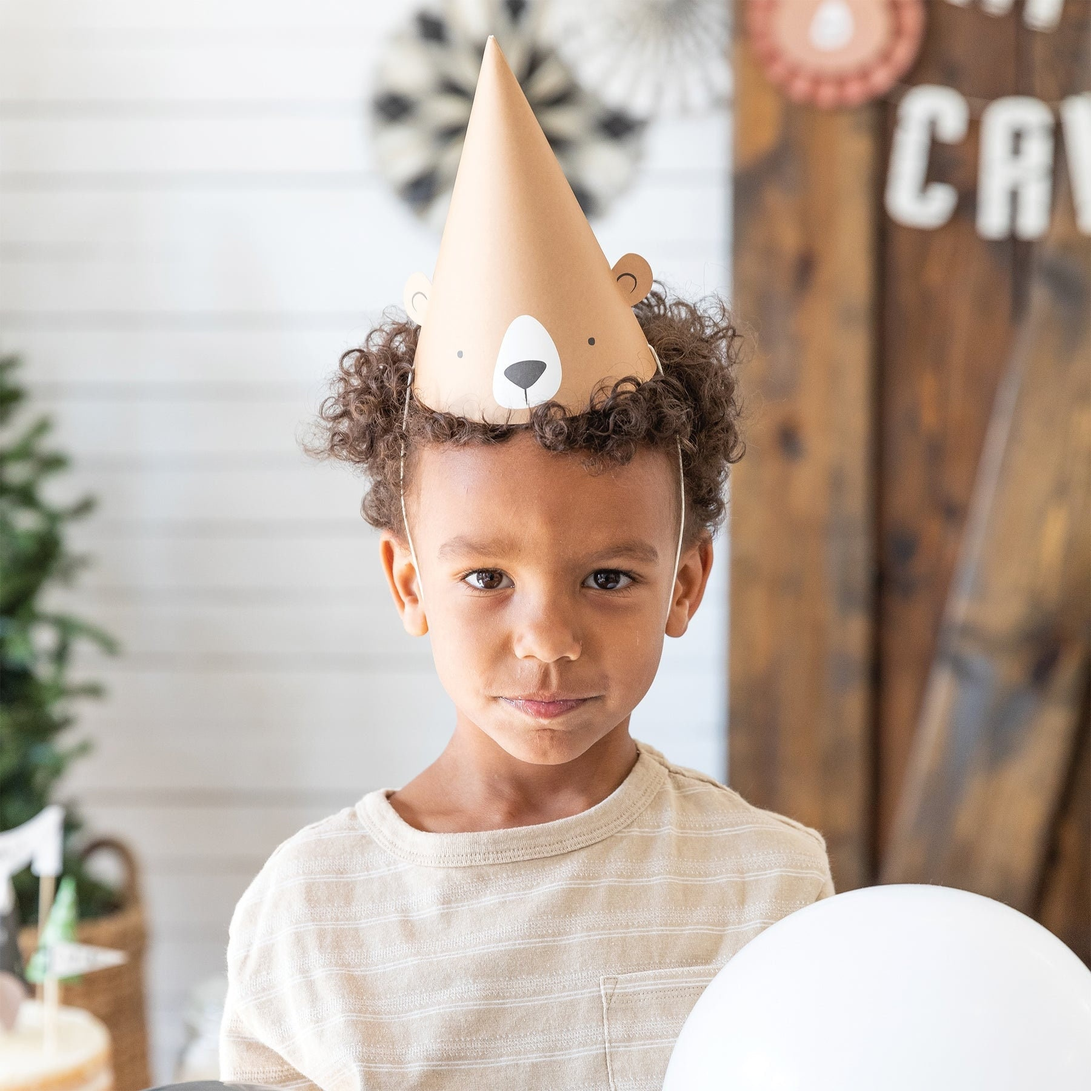cone: (409, 36, 658, 425)
